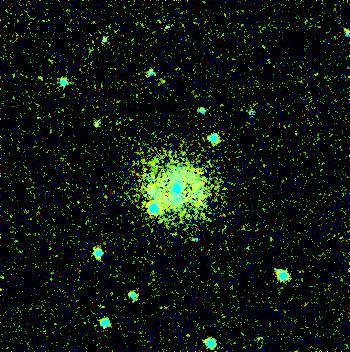star: (150, 67, 180, 97)
